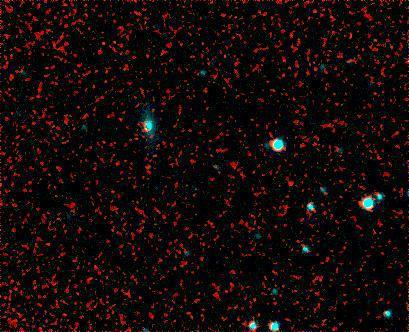star: (130, 114, 160, 144)
